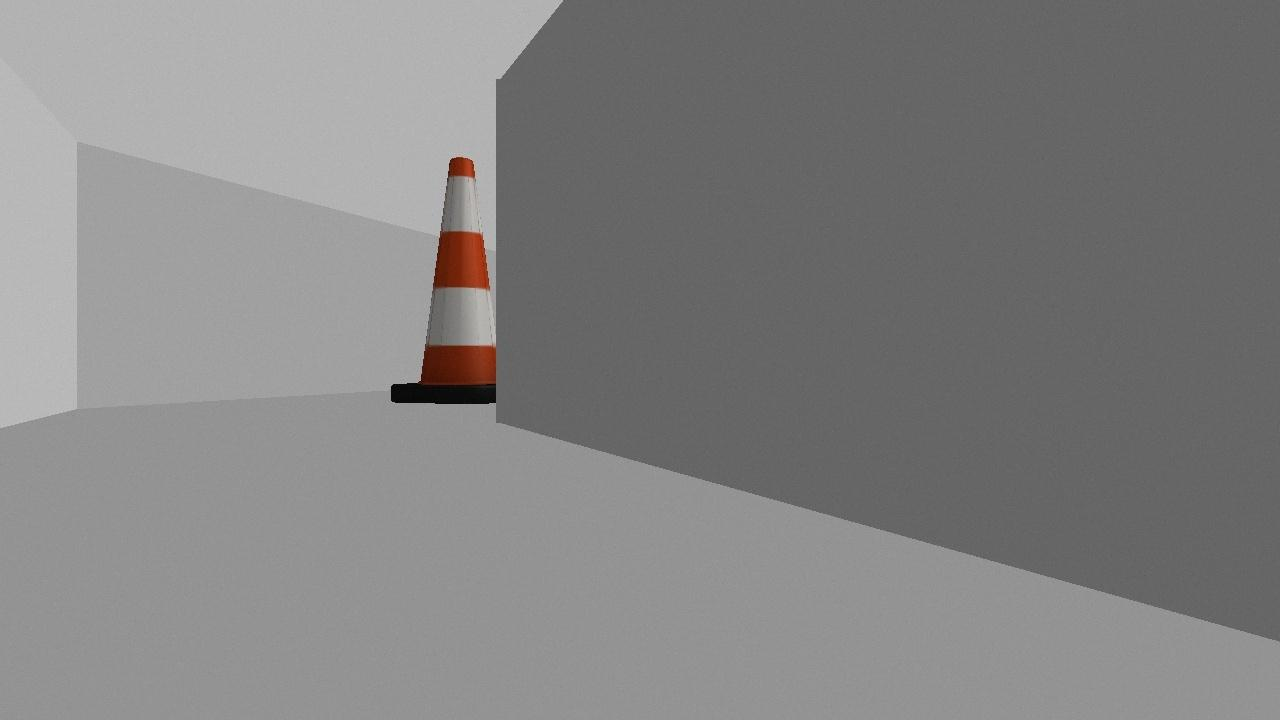cone_barrel: (389, 156, 526, 404)
